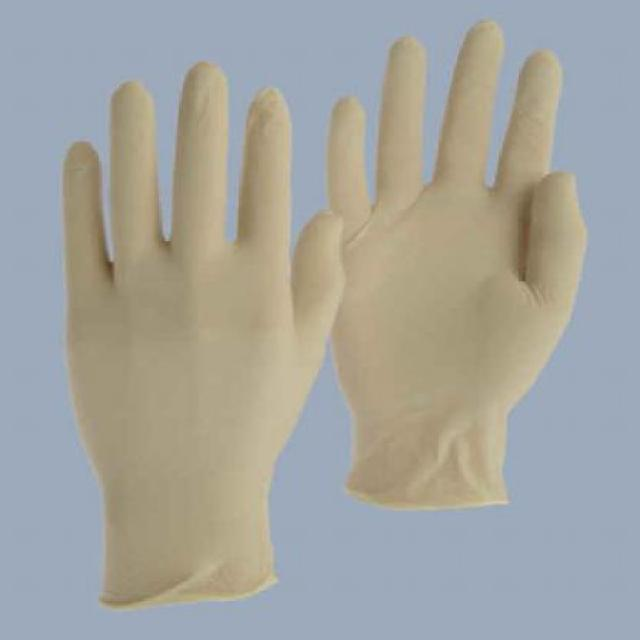glove: (59, 73, 348, 609), (321, 25, 584, 500)
